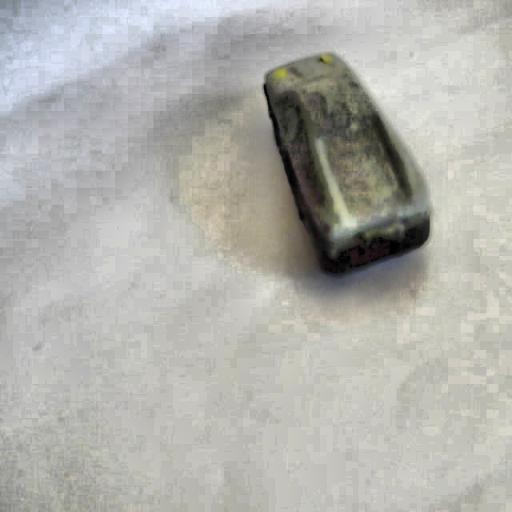normal_car: (260, 49, 434, 279)
